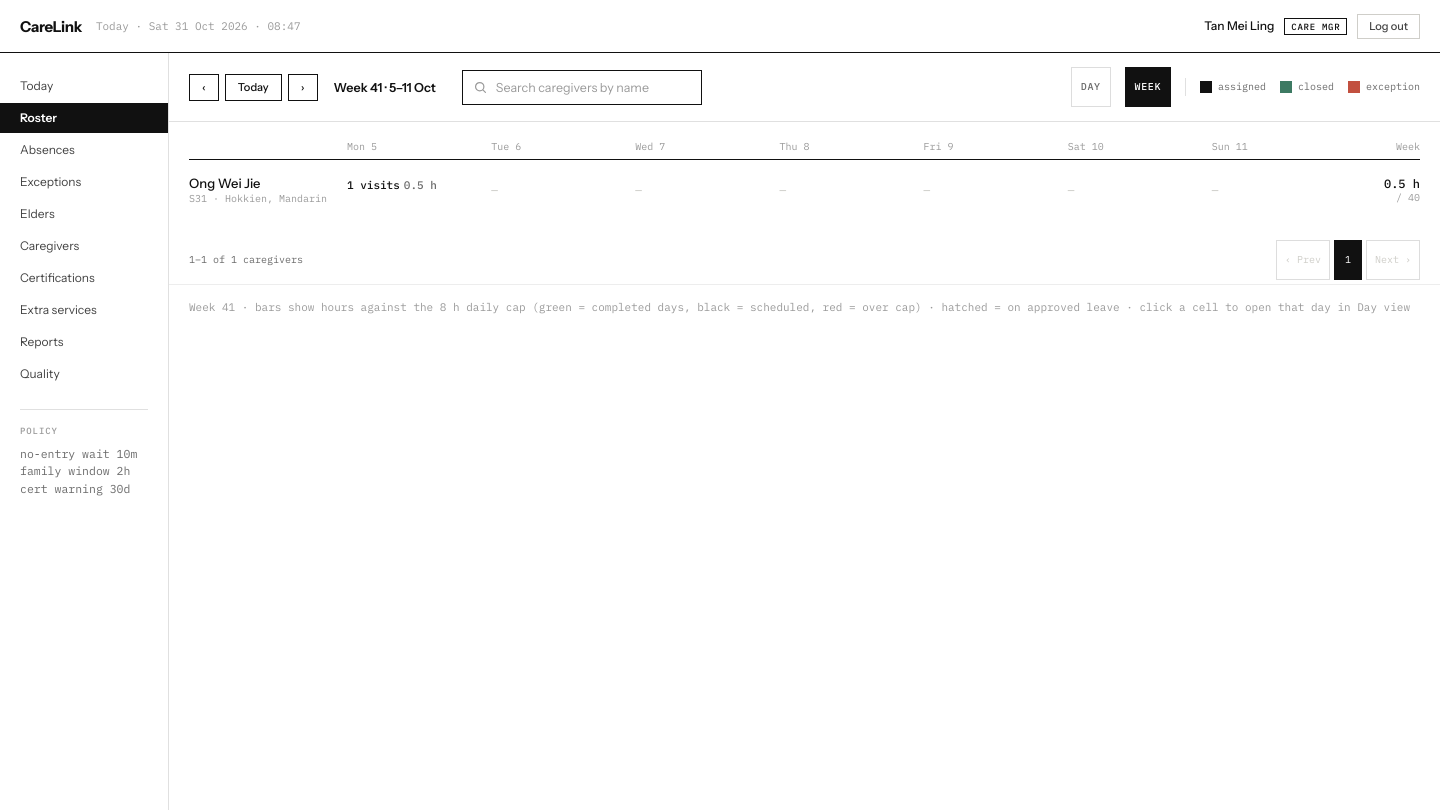
Scenario: shows the week as daily load and opens a day from a cell
Expected: the text "Week 41 · 5–11 Oct" is shown, [334,80,436,95]
Click the button with aria-label "Mon 5: 1 visits, 0.5 h. Open in Day view" at (411, 190), box [339,160,483,220]
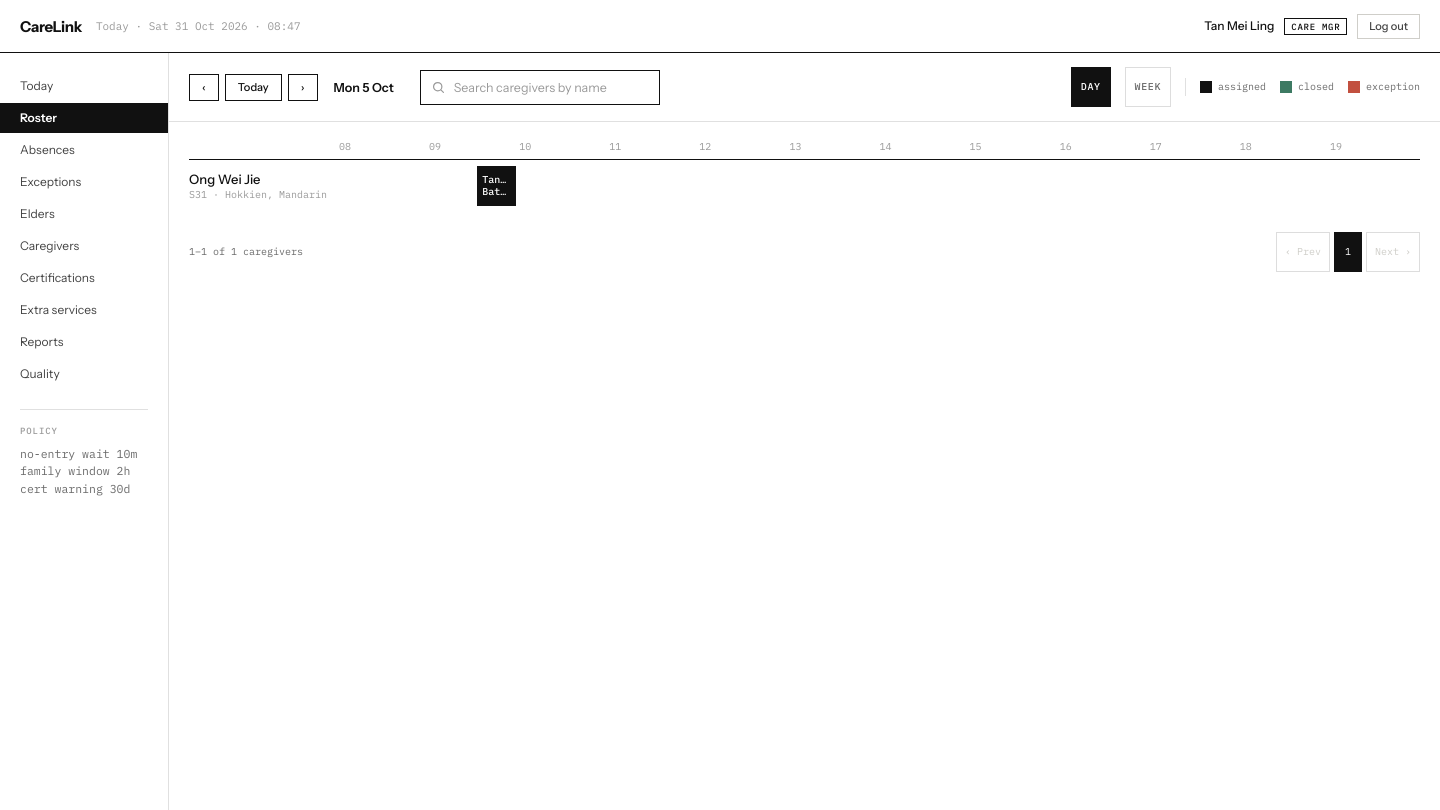
Expected: the text "Mon 5 Oct" is shown, [334,80,394,95]
